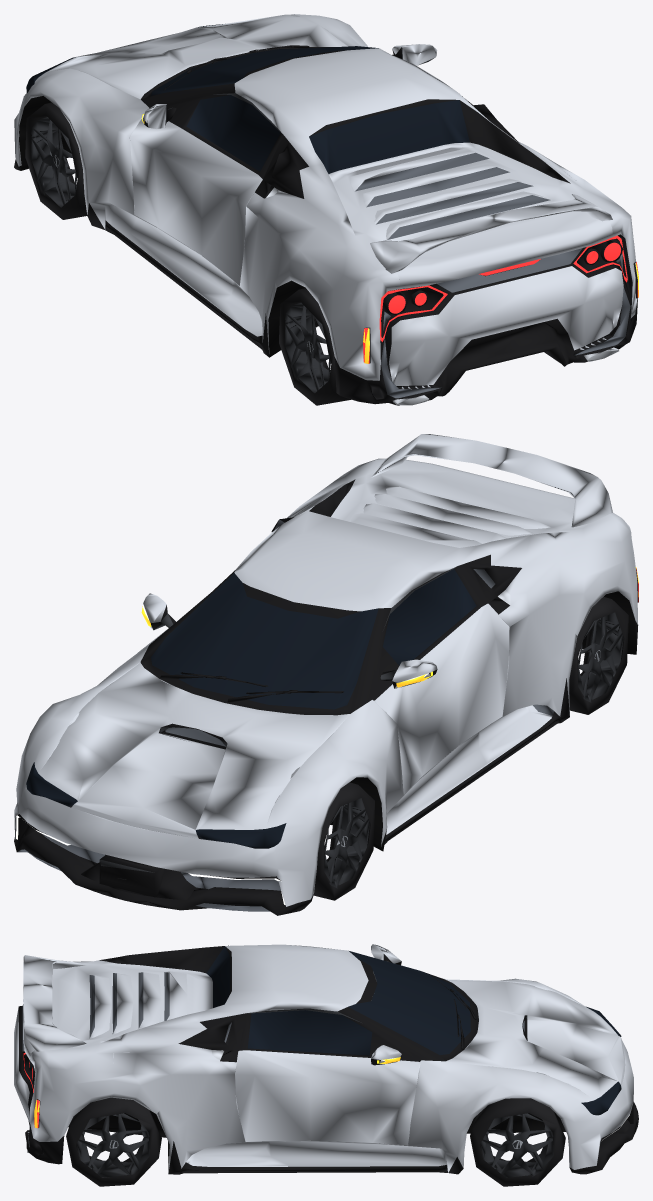
Rendered from car_fumi.glb.
3 views of the same model, one above another, from view 1: azimuth 30°, elevation 25°; view 2: azimuth 150°, elevation 25°; view 3: azimuth 270°, elevation 25° (orthographic). The views are drawn at different scales.
Parts seen in each view (by area): view 1: body, wheel_f, wheel_r; view 2: body, wheel_f, wheel_r; view 3: body, wheel_f, wheel_r.
Part boxes in pixels (left/top/right/bottom): body: left=14, top=14, right=638, bottom=405; wheel_f: left=25, top=102, right=87, bottom=219; wheel_r: left=279, top=288, right=351, bottom=405; body: left=14, top=434, right=638, bottom=915; wheel_f: left=313, top=782, right=374, bottom=900; wheel_r: left=569, top=597, right=628, bottom=714; body: left=14, top=944, right=638, bottom=1174; wheel_f: left=470, top=1098, right=565, bottom=1186; wheel_r: left=66, top=1097, right=161, bottom=1186.
Bounding box in the file's own units: 1.97 × 1.26 × 4.45.
2 materials, 1 textured.
